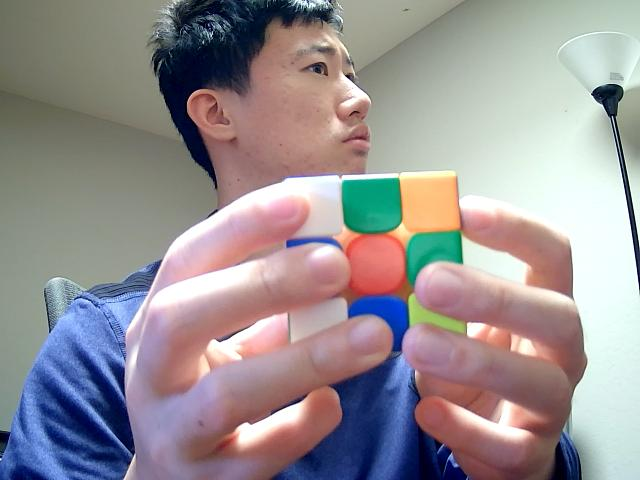Rubiks-Cube: (280, 169, 470, 354)
